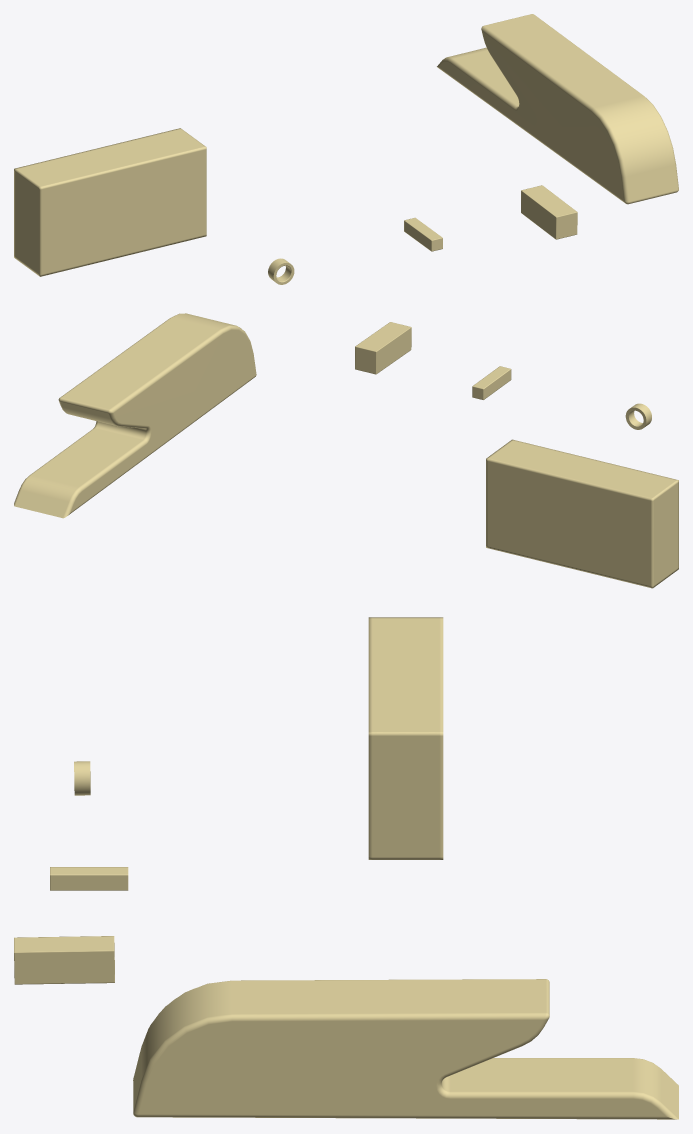
File: SM_carving_01.fbx
3 renders of one model, top to bottom at view 1: azimuth 30°, elevation 25°; view 2: azimuth 150°, elevation 25°; view 3: azimuth 270°, elevation 25°, orthographic. The views are drawn at different scales.
Visible parts, largest first — view 1: SM_carving_01; view 2: SM_carving_01; view 3: SM_carving_01.
Boxes of the visible parts, left/top/right/bottom form: SM_carving_01: left=14, top=14, right=678, bottom=284; SM_carving_01: left=14, top=313, right=678, bottom=588; SM_carving_01: left=14, top=617, right=678, bottom=1119.
Size of the model in its own units: 276 by 200 by 42.15.
